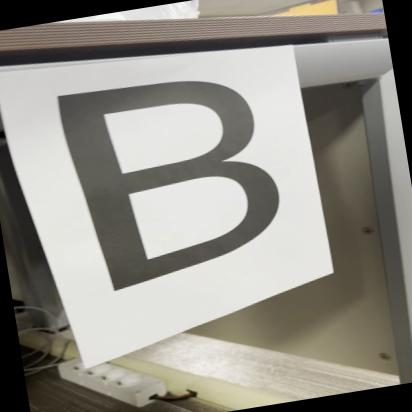seat: (15, 52, 293, 304)
